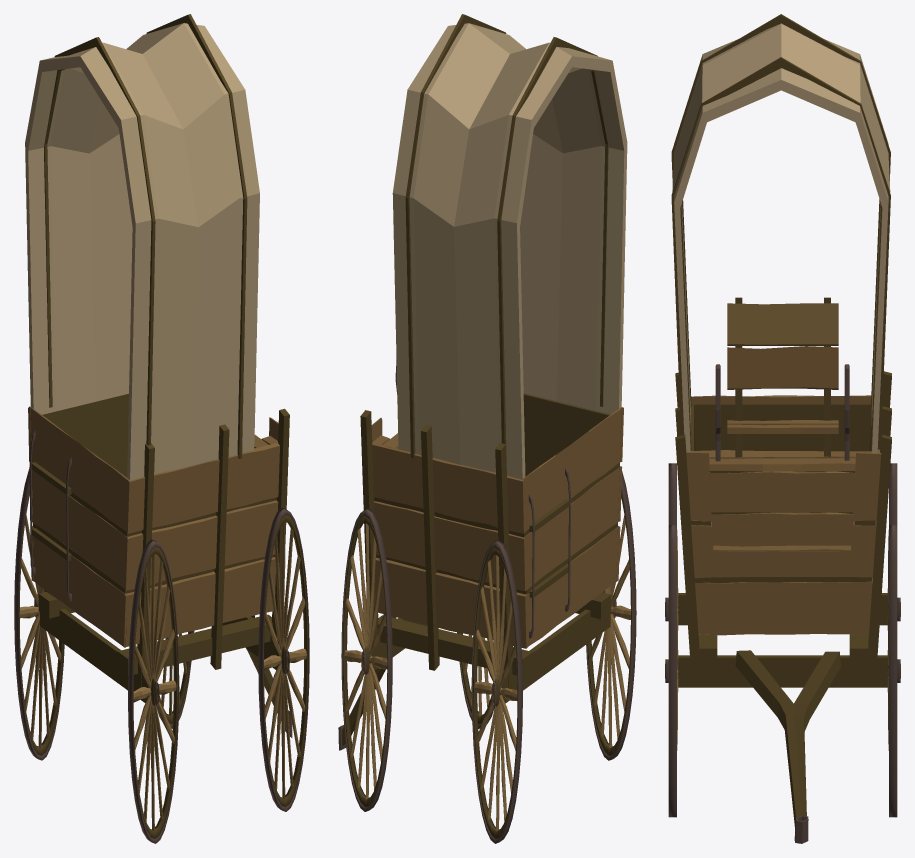
The model's file is cart.glb.
3 views of the same model, side by side, from view 1: azimuth 30°, elevation 25°; view 2: azimuth 150°, elevation 25°; view 3: azimuth 270°, elevation 25° (orthographic). The views are drawn at different scales.
Parts seen in each view (by area): view 1: Plane.001, Cube.040, Cylinder.001, Cylinder.006, Cylinder.008, Cylinder.007; view 2: Plane.001, Cube.040, Cylinder.007, Cylinder.008, Cylinder.006, Cylinder.001; view 3: Cube.040, Plane.001, Cylinder.001, Cylinder.007, Cylinder.006, Cylinder.008.
Part boxes in pixels (x1,y1,x2,y2): Plane.001: (25, 14, 259, 480); Cube.040: (28, 393, 292, 737); Cylinder.001: (258, 508, 309, 811); Cylinder.006: (128, 539, 179, 843); Cylinder.008: (14, 469, 64, 760); Cylinder.007: (156, 630, 194, 728); Plane.001: (392, 14, 627, 479); Cube.040: (338, 359, 623, 750); Cylinder.007: (341, 508, 392, 811); Cylinder.008: (471, 540, 522, 843); Cylinder.006: (586, 471, 636, 760); Cylinder.001: (457, 632, 494, 728); Cube.040: (675, 297, 891, 843); Plane.001: (671, 14, 890, 452); Cylinder.001: (665, 525, 678, 817); Cylinder.007: (887, 525, 900, 817); Cylinder.006: (665, 463, 678, 630); Cylinder.008: (887, 463, 900, 630).
Size of the model in its own units: 2.98 by 9.55 by 2.75.
